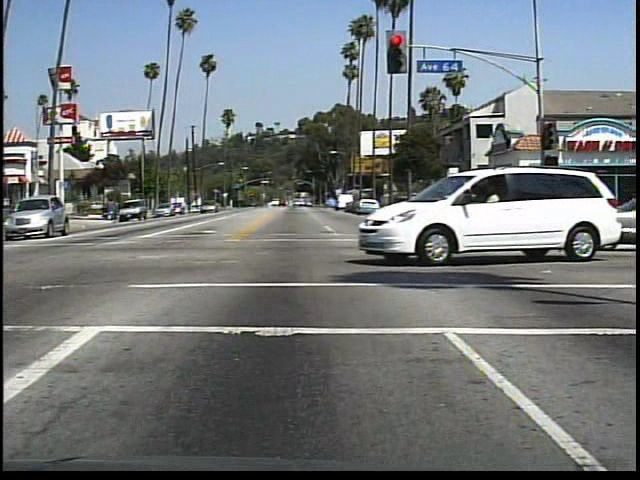person: (540, 186, 565, 236)
